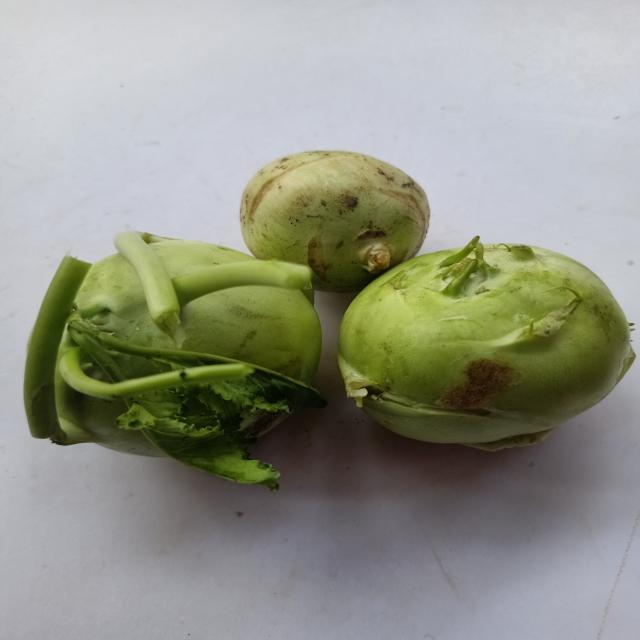Turnip: (20, 227, 332, 496), (334, 229, 640, 454), (236, 150, 435, 296)
